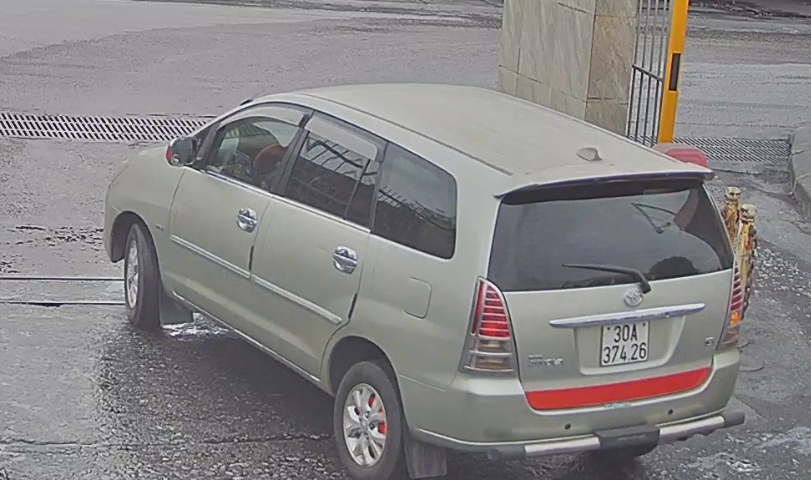vehicle plate: (602, 319, 650, 370)
